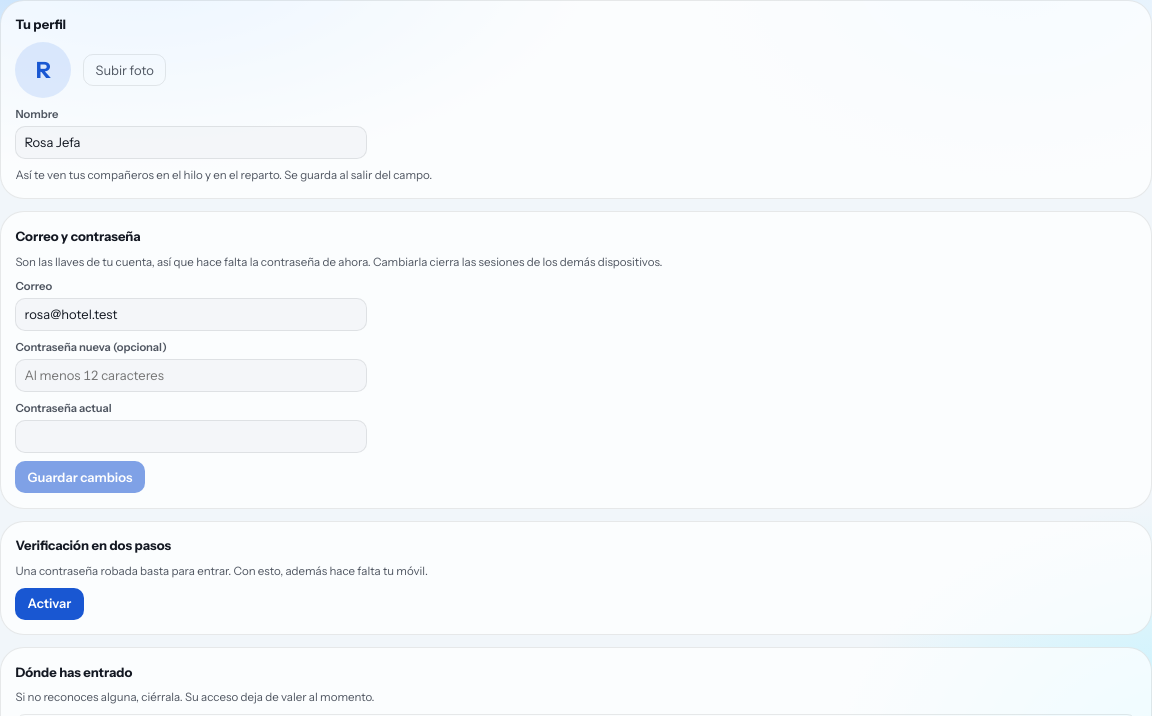
Test: Perfil › al cambiar la contraseña dice cuántas sesiones se cerraron
The image size is (1152, 716).
Type "otra-mucho-mas-larga" into the password field labelled "Contraseña nueva (opcional)" at (191, 376), box [15,359,367,392]
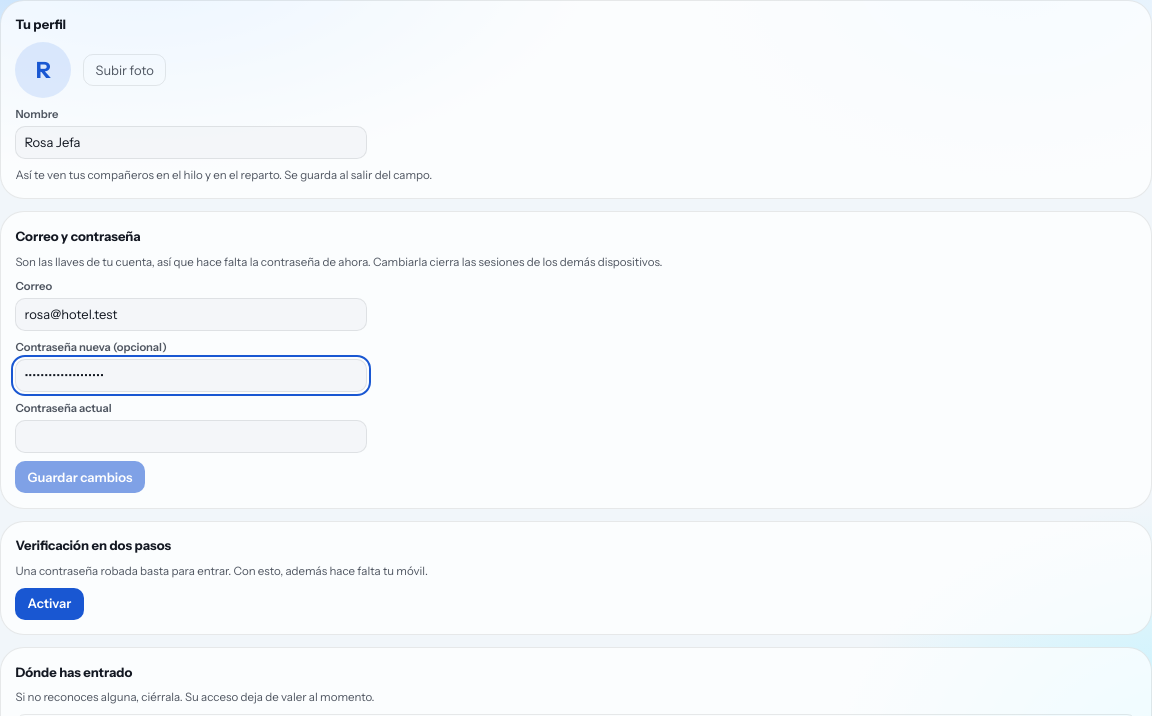
Type "la-de-ahora" into the password field labelled "Contraseña actual" at (191, 437), box [15,420,367,453]
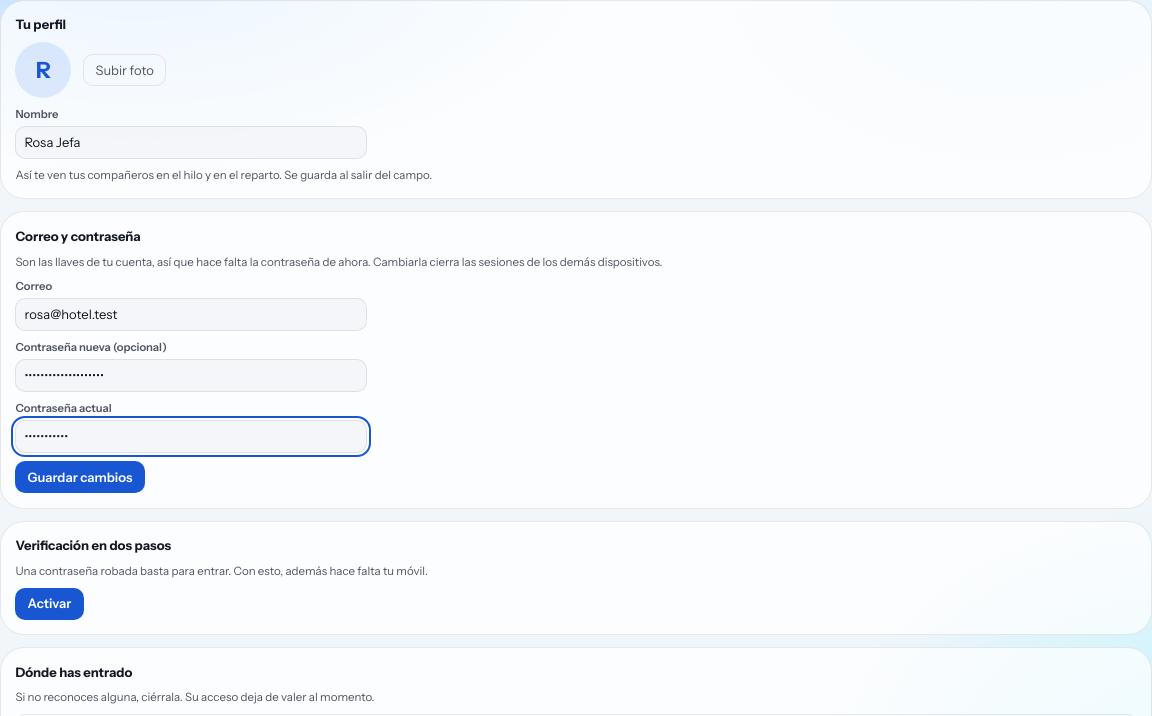
Click the button "Guardar cambios" at (80, 477), box [15,461,145,493]
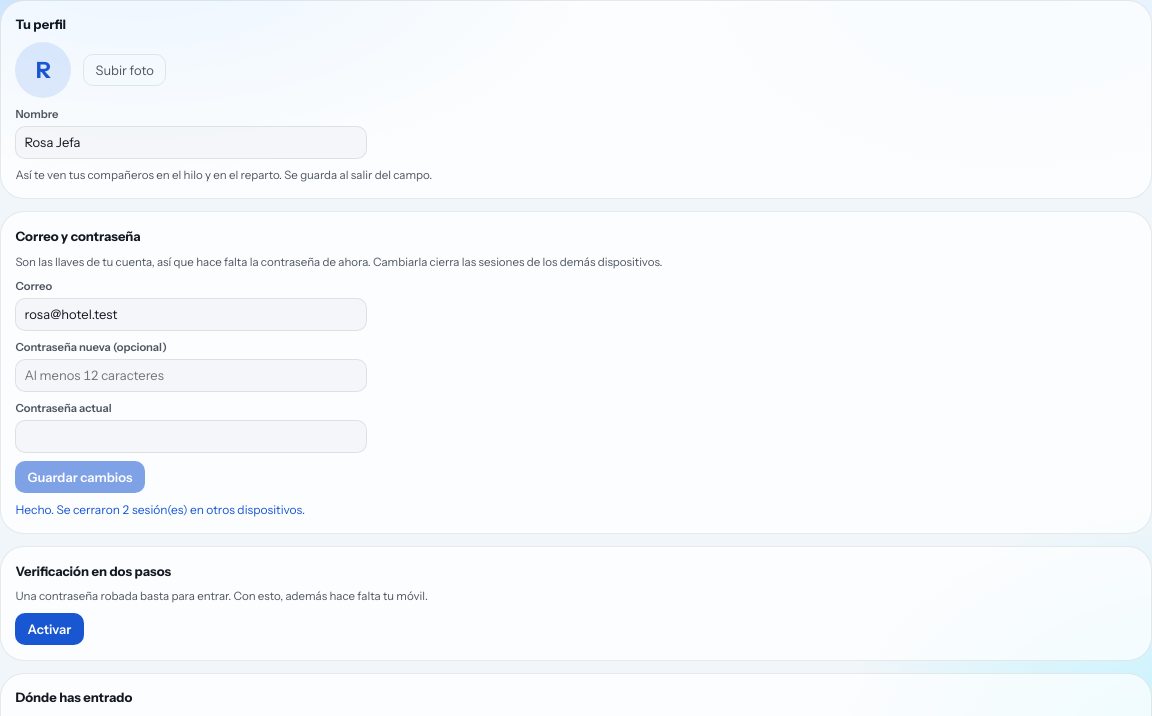
expect the text "Hecho. Se cerraron 2 sesión(es) en otros dispositivos." is shown: met, box [15,502,305,518]
